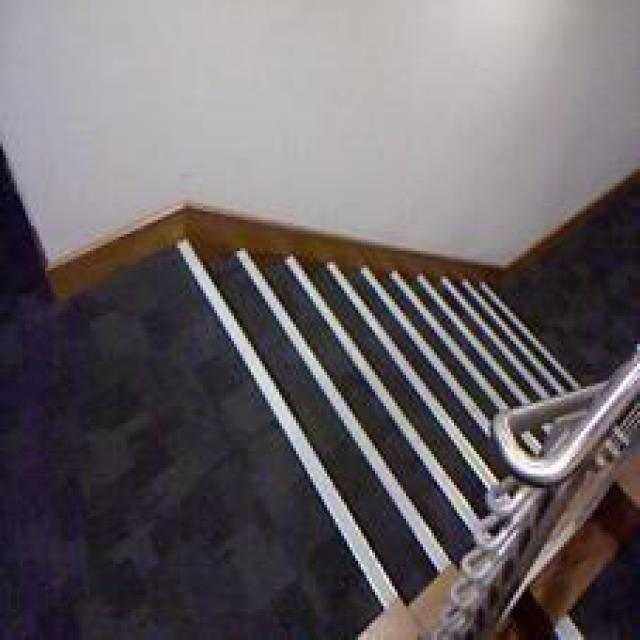downstair: (153, 190, 520, 545)
